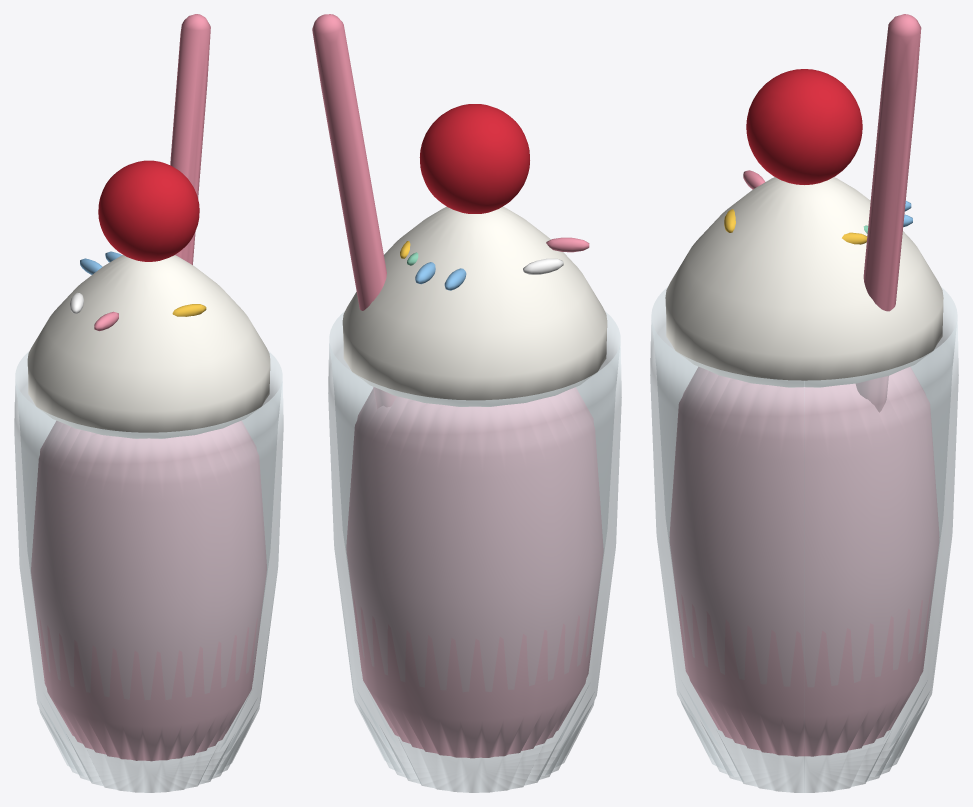
Rendered from comida_malteada.glb.
3 renders of one model, left to right at view 1: azimuth 30°, elevation 25°; view 2: azimuth 150°, elevation 25°; view 3: azimuth 270°, elevation 25°, orthographic. The views are drawn at different scales.
Visible parts, largest first — view 1: vaso.004, bebida.004, crema malteada.001, cereza malteada.001, pitillo.004; view 2: vaso.004, bebida.004, crema malteada.001, pitillo.004, cereza malteada.001; view 3: vaso.004, bebida.004, crema malteada.001, pitillo.004, cereza malteada.001.
Boxes of the visible parts, x1,y1,x2,y2 form: vaso.004: (14, 351, 283, 792); bebida.004: (31, 421, 266, 761); crema malteada.001: (27, 255, 270, 438); cereza malteada.001: (98, 160, 199, 261); pitillo.004: (170, 14, 210, 264); vaso.004: (328, 311, 621, 792); bebida.004: (346, 387, 603, 758); crema malteada.001: (342, 206, 607, 406); pitillo.004: (312, 14, 396, 408); cereza malteada.001: (419, 104, 529, 213); vaso.004: (650, 287, 958, 792); bebida.004: (669, 367, 939, 756); crema malteada.001: (665, 177, 943, 387); pitillo.004: (856, 14, 921, 412); cereza malteada.001: (746, 69, 862, 184).
Size of the model in its own units: 0.1547 by 0.4437 by 0.1547.
